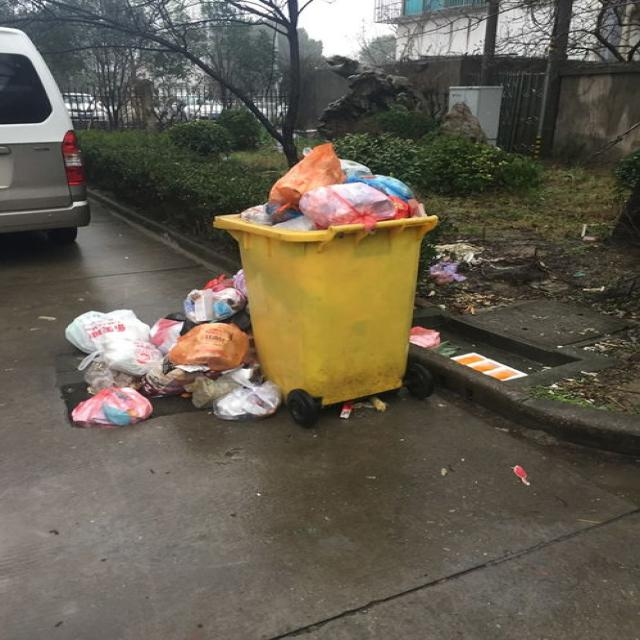garbage: (59, 268, 278, 426)
overflow: (210, 143, 435, 407)
